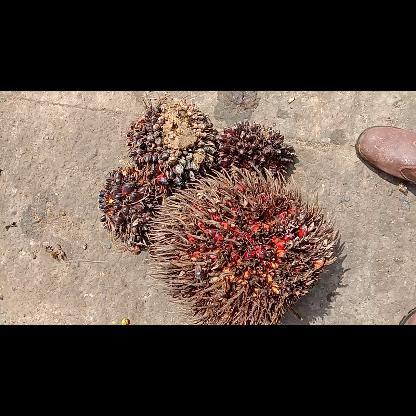TBS abnormal: (124, 96, 214, 193), (95, 165, 169, 255), (212, 117, 298, 183)
Terlalu masak: (144, 166, 338, 324)
